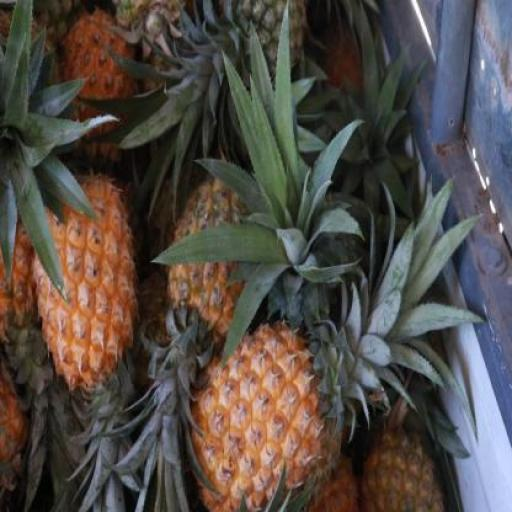Pineapple - v8 v1: (189, 321, 330, 512), (33, 177, 145, 403)
